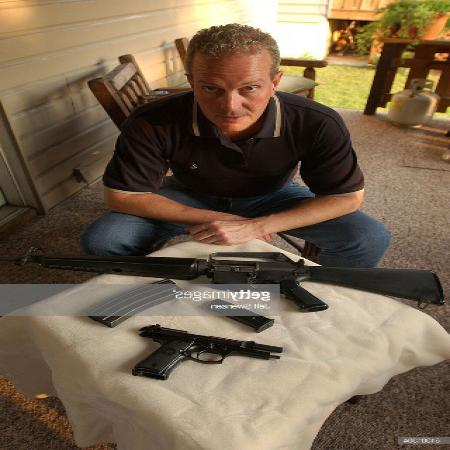2: (8, 245, 446, 309)
Pistol: (133, 323, 290, 382)
